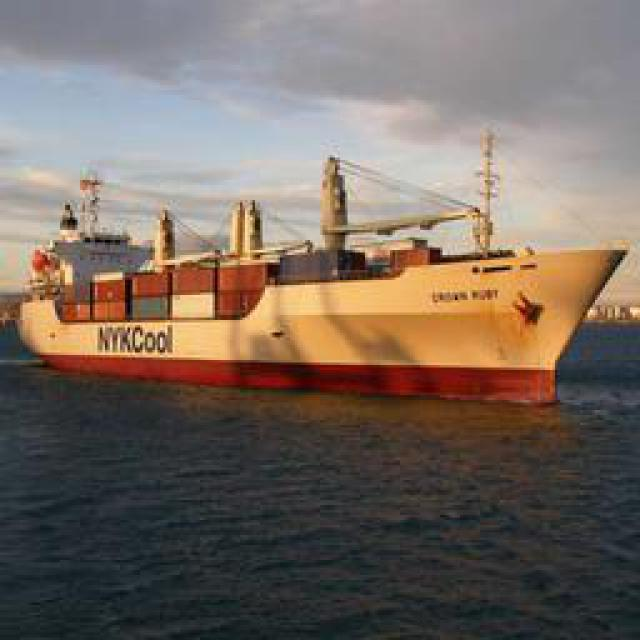Ship: (16, 135, 636, 400)
